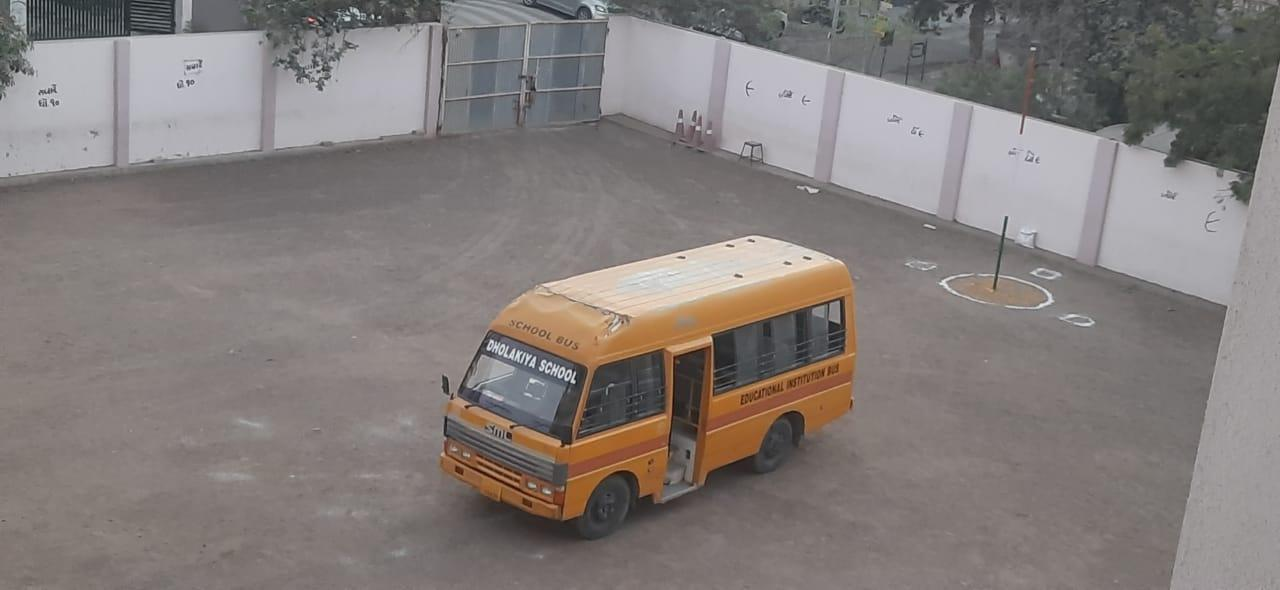Bus: (425, 223, 895, 552)
